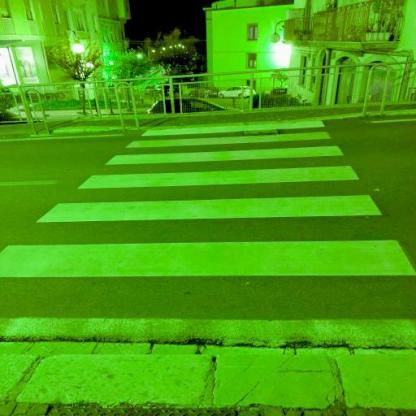crosswalk: (34, 163, 385, 225), (122, 118, 335, 149)
